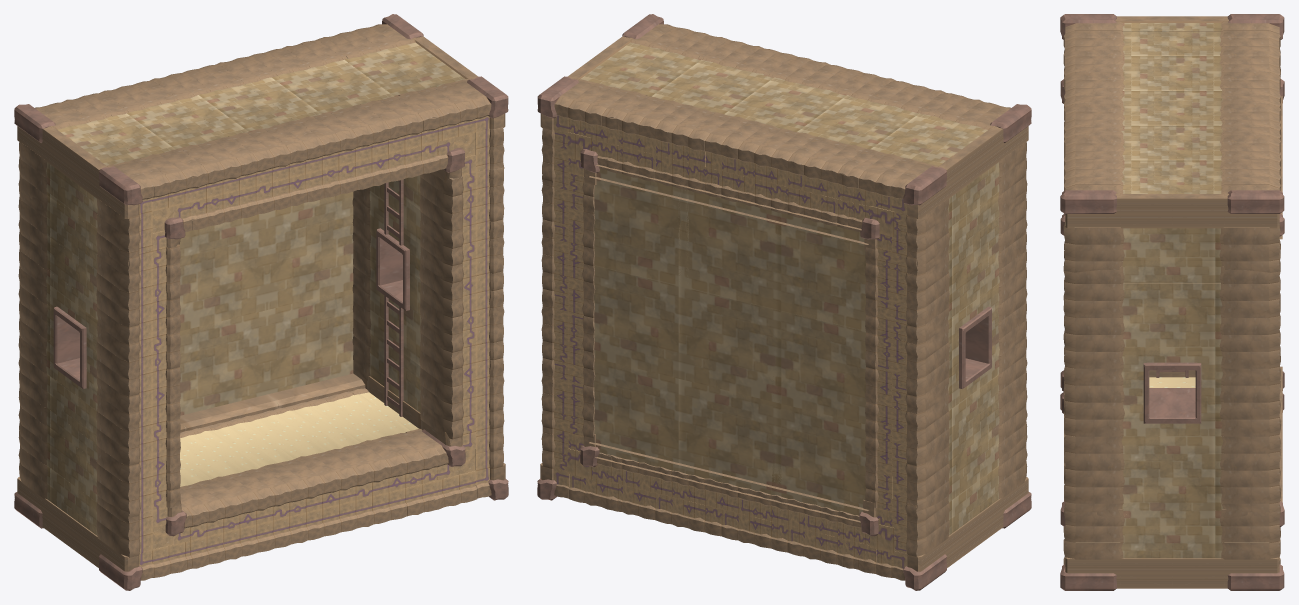
Rendered from EgyptianFloorRoomBase.fbx.
The picture shows the model from 3 angles, left to right: view 1: azimuth 30°, elevation 25°; view 2: azimuth 150°, elevation 25°; view 3: azimuth 270°, elevation 25°; orthographic projection. The views are drawn at different scales.
Visible parts, largest first — view 1: RoomEdges, RoomWall; view 2: RoomEdges, RoomWall; view 3: RoomEdges, RoomWall.
Part boxes in pixels (x1,y1,x2,y2): RoomEdges: [14, 14, 508, 590]; RoomWall: [179, 192, 365, 432]; RoomEdges: [537, 14, 1031, 590]; RoomWall: [589, 164, 868, 522]; RoomEdges: [1060, 14, 1284, 590]; RoomWall: [1279, 96, 1282, 501].
Size of the model in its own units: 664 by 664 by 341.
Materials: 5 (5 with a texture image).
